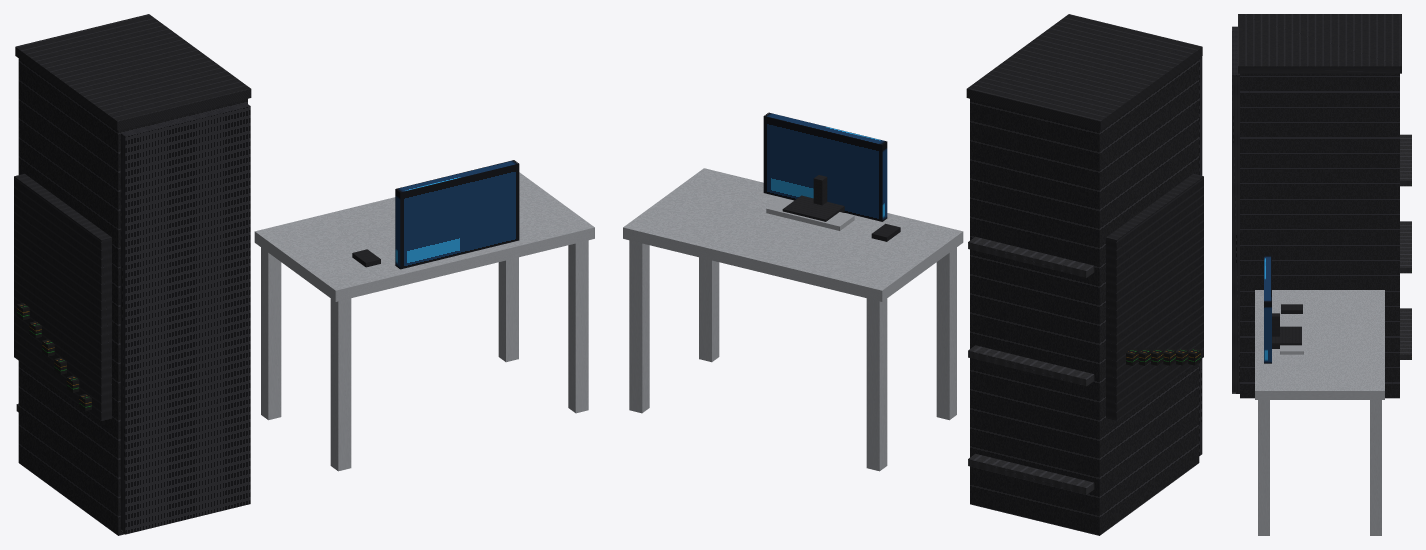
The model's file is prop_server_rack.glb.
3 views of the same model, side by side, from view 1: azimuth 30°, elevation 25°; view 2: azimuth 150°, elevation 25°; view 3: azimuth 270°, elevation 25° (orthographic). The views are drawn at different scales.
Parts seen in each view (by area): view 1: Prop_Server_Rack; view 2: Prop_Server_Rack; view 3: Prop_Server_Rack.
Part boxes in pixels (left/top/right/bottom): Prop_Server_Rack: left=14, top=14, right=594, bottom=535; Prop_Server_Rack: left=623, top=14, right=1203, bottom=535; Prop_Server_Rack: left=1232, top=14, right=1411, bottom=535.
Size of the model in its own units: 2.33 by 1.84 by 0.9.
1 material, 1 textured.
